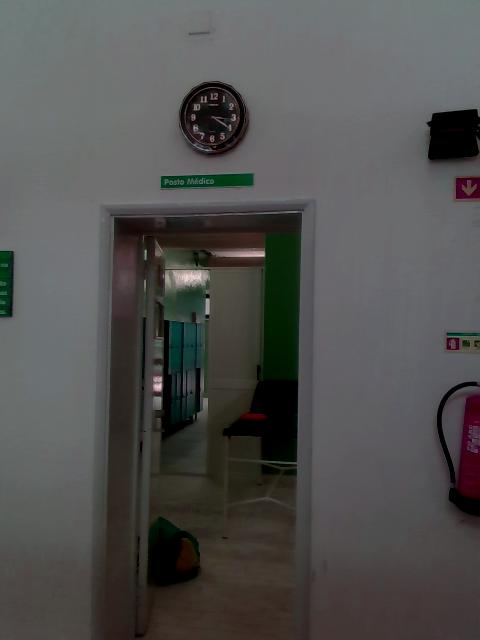open_door: (89, 196, 315, 639)
